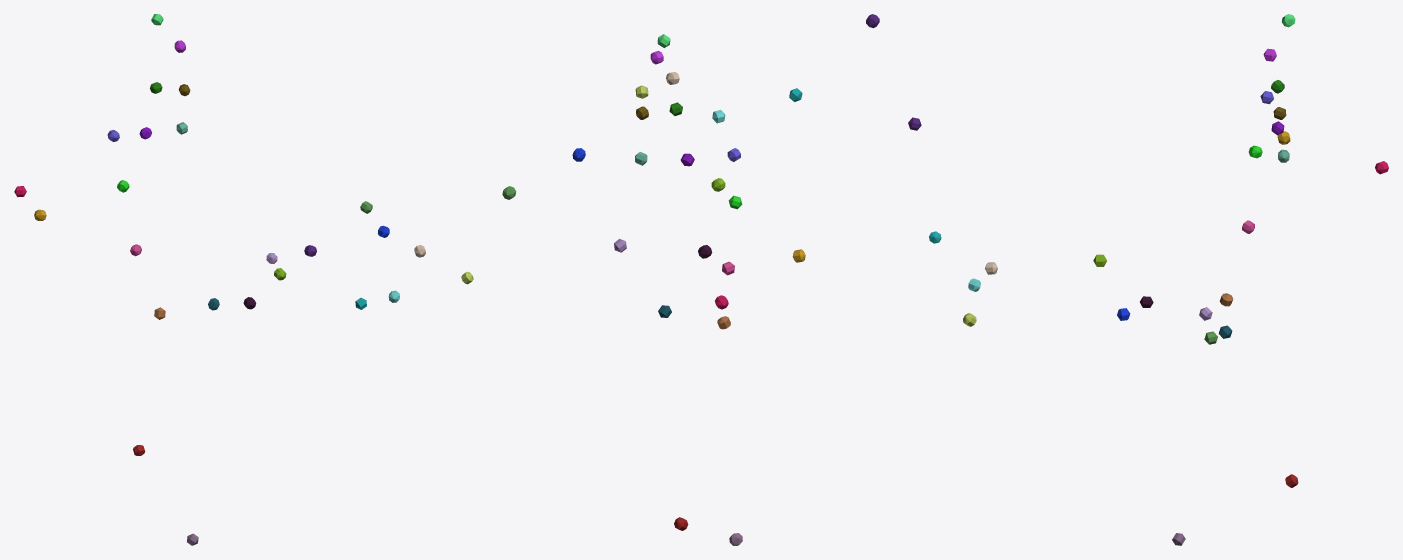
The model's file is fg-00050-bone.obj.
3 views of the same model, side by side, from view 1: azimuth 30°, elevation 25°; view 2: azimuth 150°, elevation 25°; view 3: azimuth 270°, elevation 25° (orthographic). The views are drawn at different scales.
Size of the model in its own units: 0.2707 by 0.419 by 0.3386.
